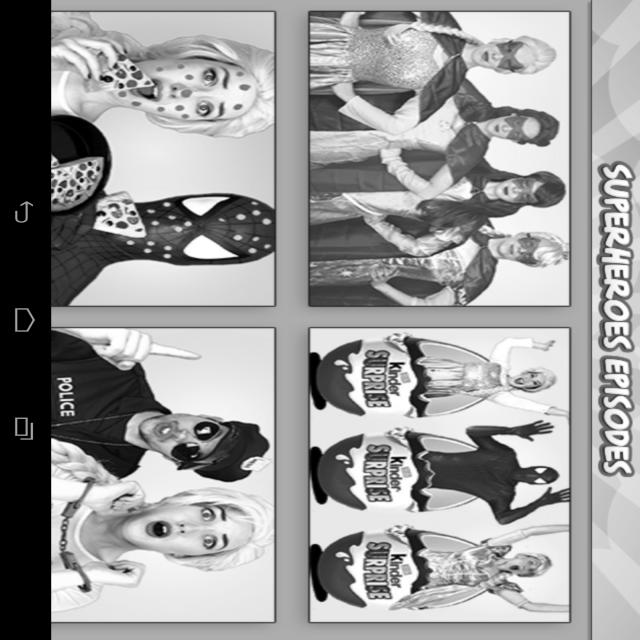ImageView: (310, 326, 568, 619), (308, 13, 566, 303), (49, 9, 274, 306), (54, 328, 273, 620)
TextView: (591, 159, 631, 478)
